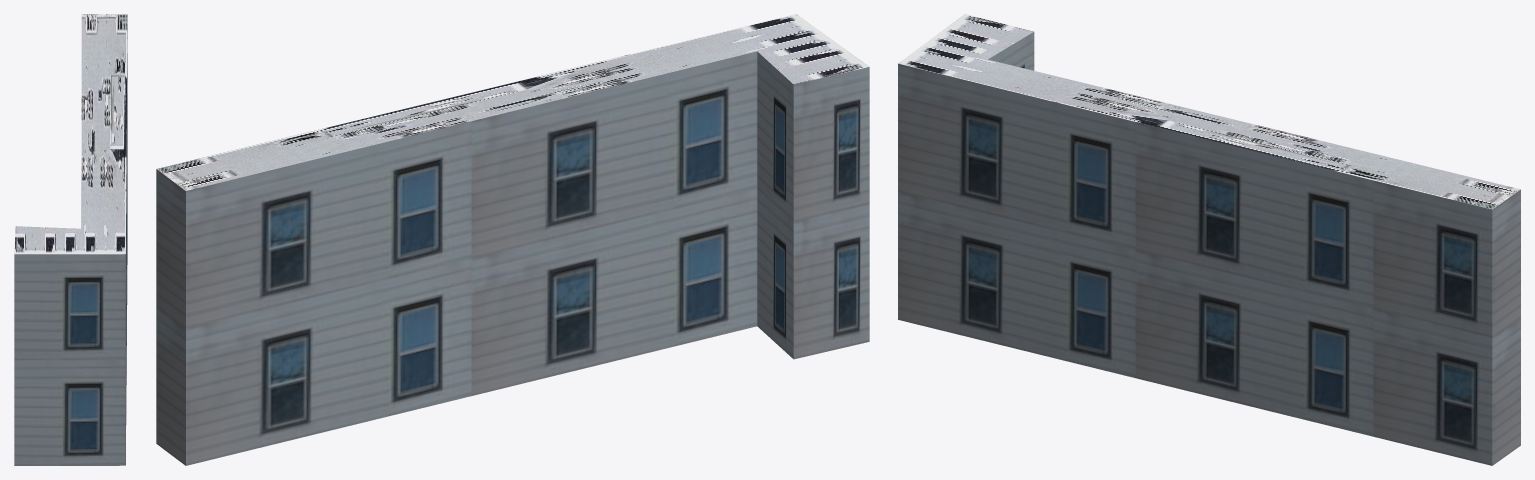
Rendered from ResTex__3847.fbx.
The picture shows the model from 3 angles, left to right: view 1: azimuth 30°, elevation 25°; view 2: azimuth 150°, elevation 25°; view 3: azimuth 270°, elevation 25°; orthographic projection. The views are drawn at different scales.
Visible parts, largest first — view 1: CityEngineMaterial_18_m, CityEngineMaterial_4_m; view 2: CityEngineMaterial_18_m, CityEngineMaterial_4_m; view 3: CityEngineMaterial_18_m, CityEngineMaterial_4_m.
Part boxes in pixels (left/top/right/bottom): CityEngineMaterial_18_m: left=14, top=53, right=127, bottom=465; CityEngineMaterial_4_m: left=14, top=14, right=127, bottom=254; CityEngineMaterial_18_m: left=156, top=51, right=869, bottom=465; CityEngineMaterial_4_m: left=157, top=14, right=868, bottom=190; CityEngineMaterial_18_m: left=898, top=32, right=1520, bottom=465; CityEngineMaterial_4_m: left=898, top=14, right=1520, bottom=209.
Bounding box in the file's own units: 9.83 × 6 × 13.22.
Materials: 2 (2 with a texture image).
